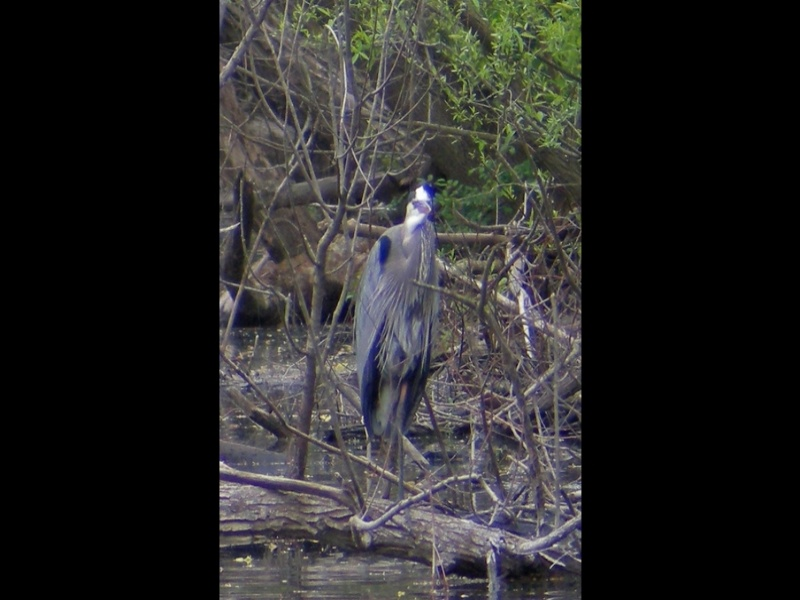heron: (353, 182, 445, 497)
